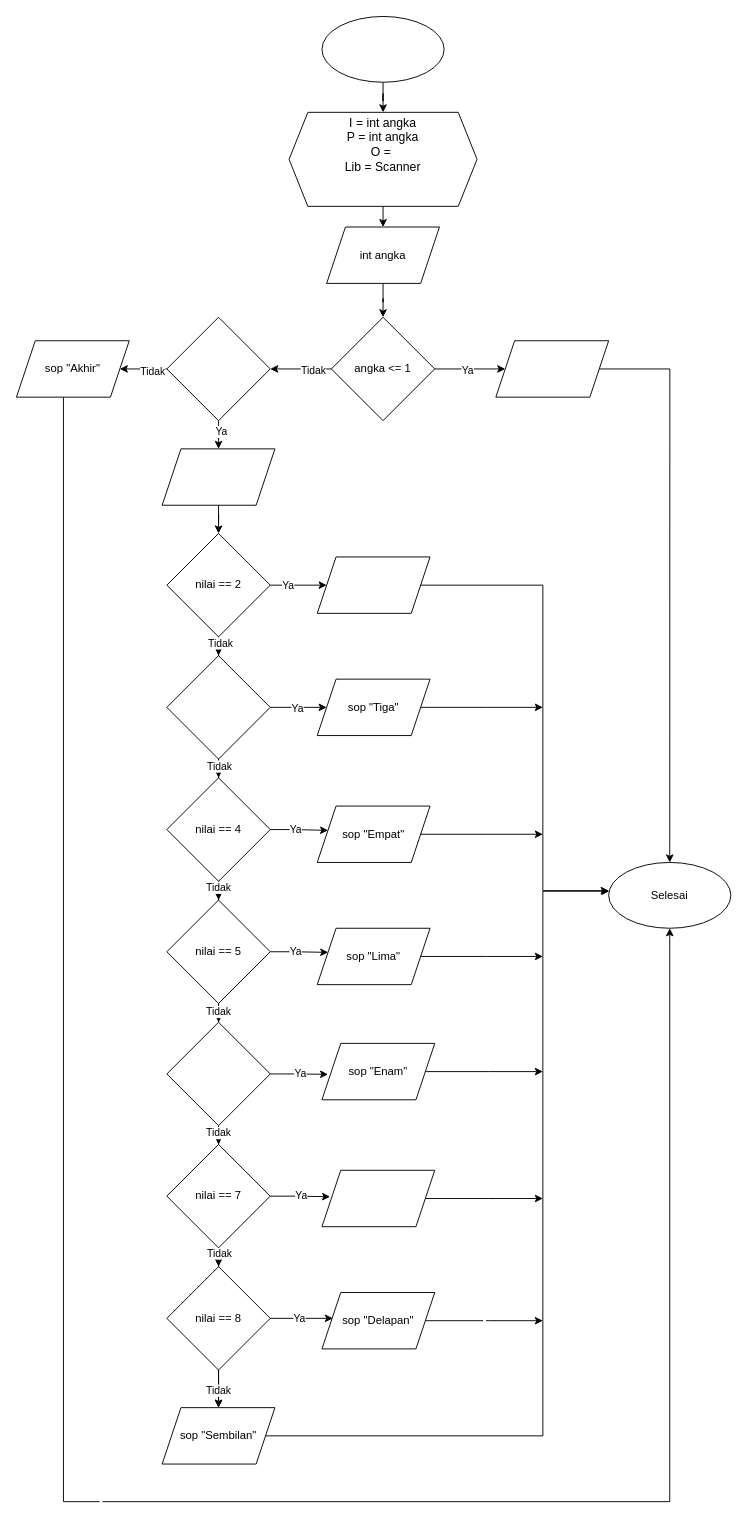
This 747x1526 diagram has some shape labels left out. The centre of each missing label's shape, as x and y in pixels:
1 < nilai < 10: the point at 218,368
Mulai: the point at 382,49
nilai == 3: the point at 218,707
nilai == 6: the point at 218,1073
sop "Dua": the point at 373,584
sop "Pertama": the point at 552,368
sop "Tengah": the point at 218,476
sop "Tujuh": the point at 378,1198
